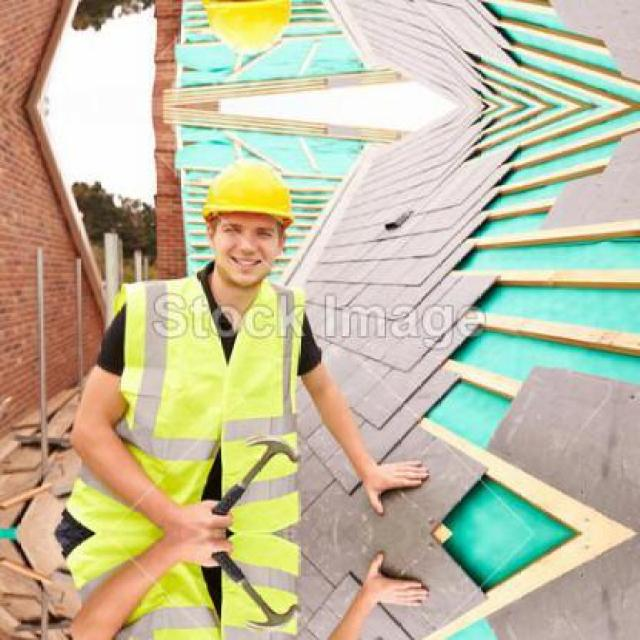helmet: (192, 145, 303, 288), (192, 0, 305, 68)
